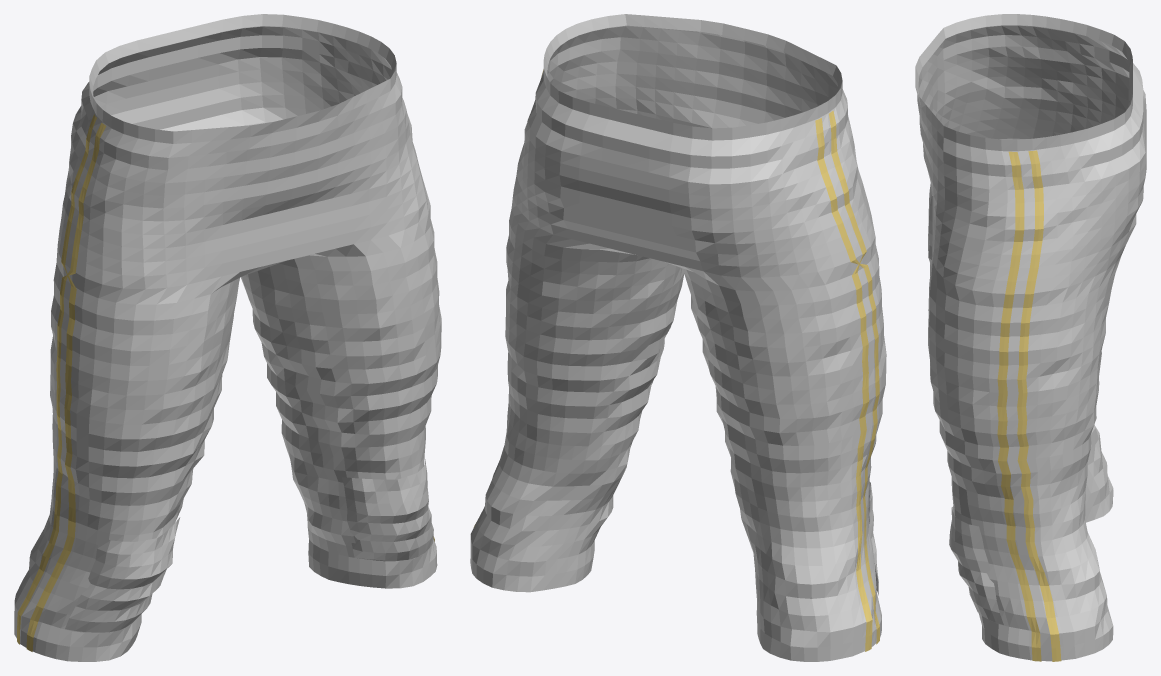
File: ewb_footballpants.glb
The picture shows the model from 3 angles, left to right: view 1: azimuth 30°, elevation 25°; view 2: azimuth 150°, elevation 25°; view 3: azimuth 270°, elevation 25°; orthographic projection. The views are drawn at different scales.
Parts seen in each view (by area): view 1: ewb_footballpants; view 2: ewb_footballpants; view 3: ewb_footballpants.
Boxes of the visible parts, x1,y1,x2,y2 form: ewb_footballpants: (14, 14, 441, 661); ewb_footballpants: (470, 14, 886, 661); ewb_footballpants: (915, 14, 1146, 661).
Size of the model in its own units: 0.4883 by 0.6116 by 0.2602.
